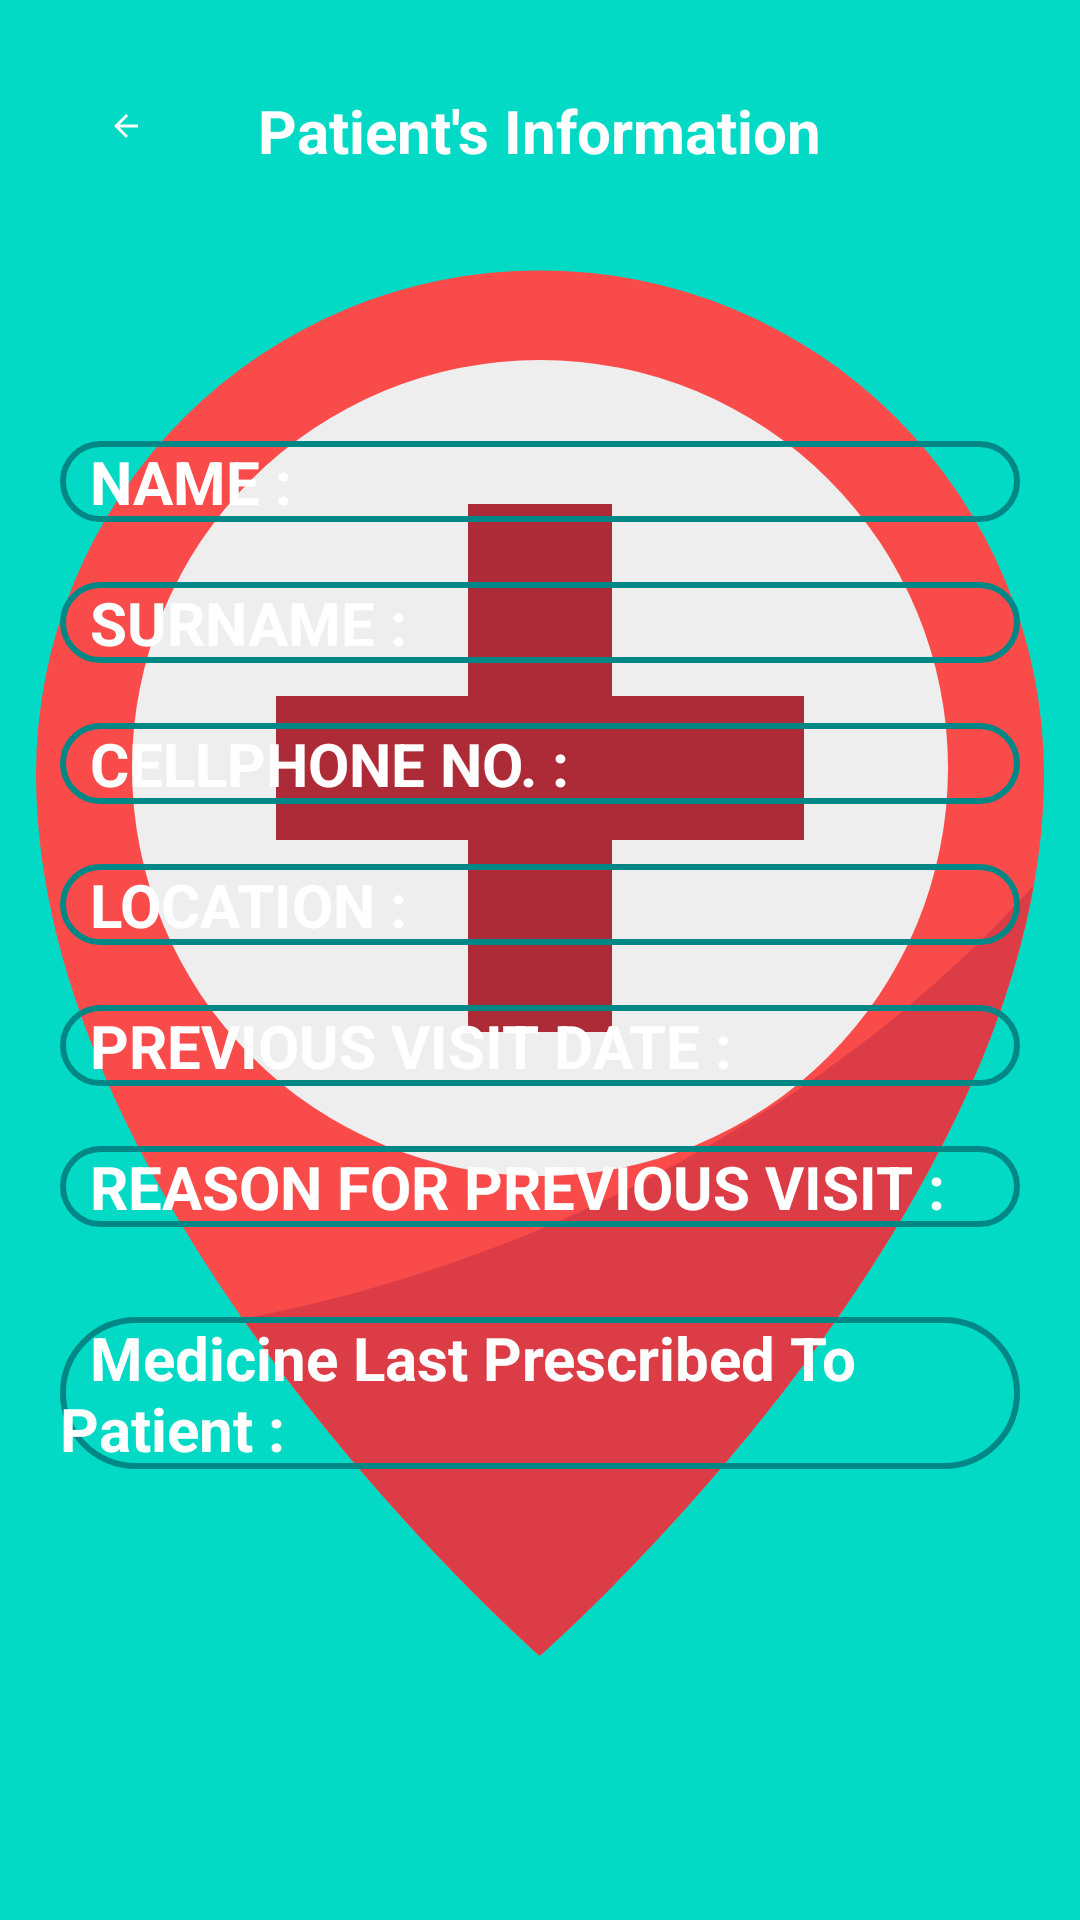

Locate icon controls on the screen. Image size 1080px x 1920px, boxes as region(x1, y1, x2, y2).
back: region(114, 114, 138, 138)
